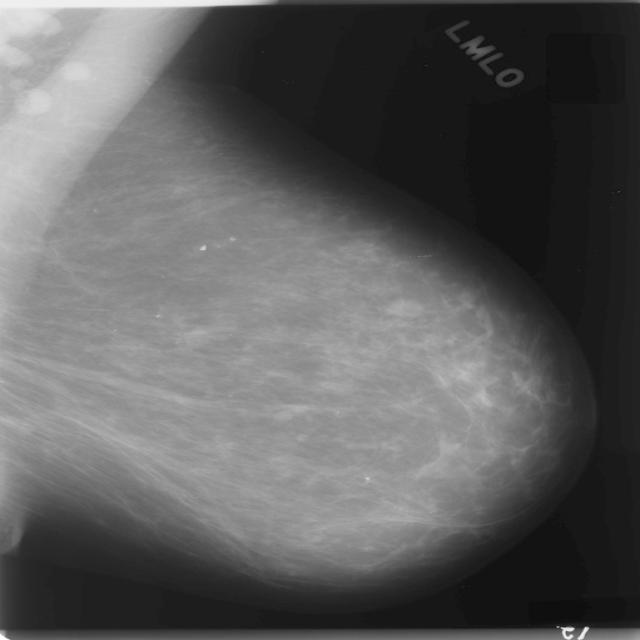tumour: (382, 296, 423, 316)
